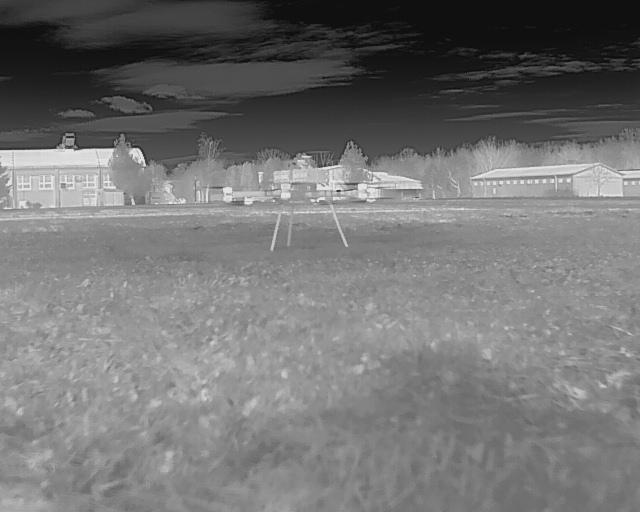drone: (231, 150, 380, 269)
